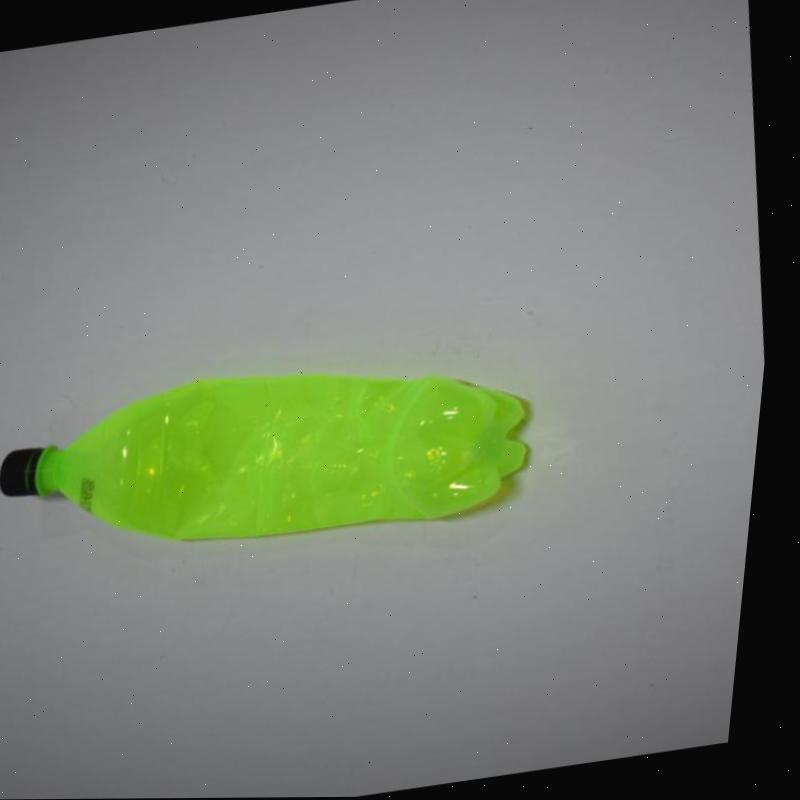botella: (0, 332, 557, 586)
